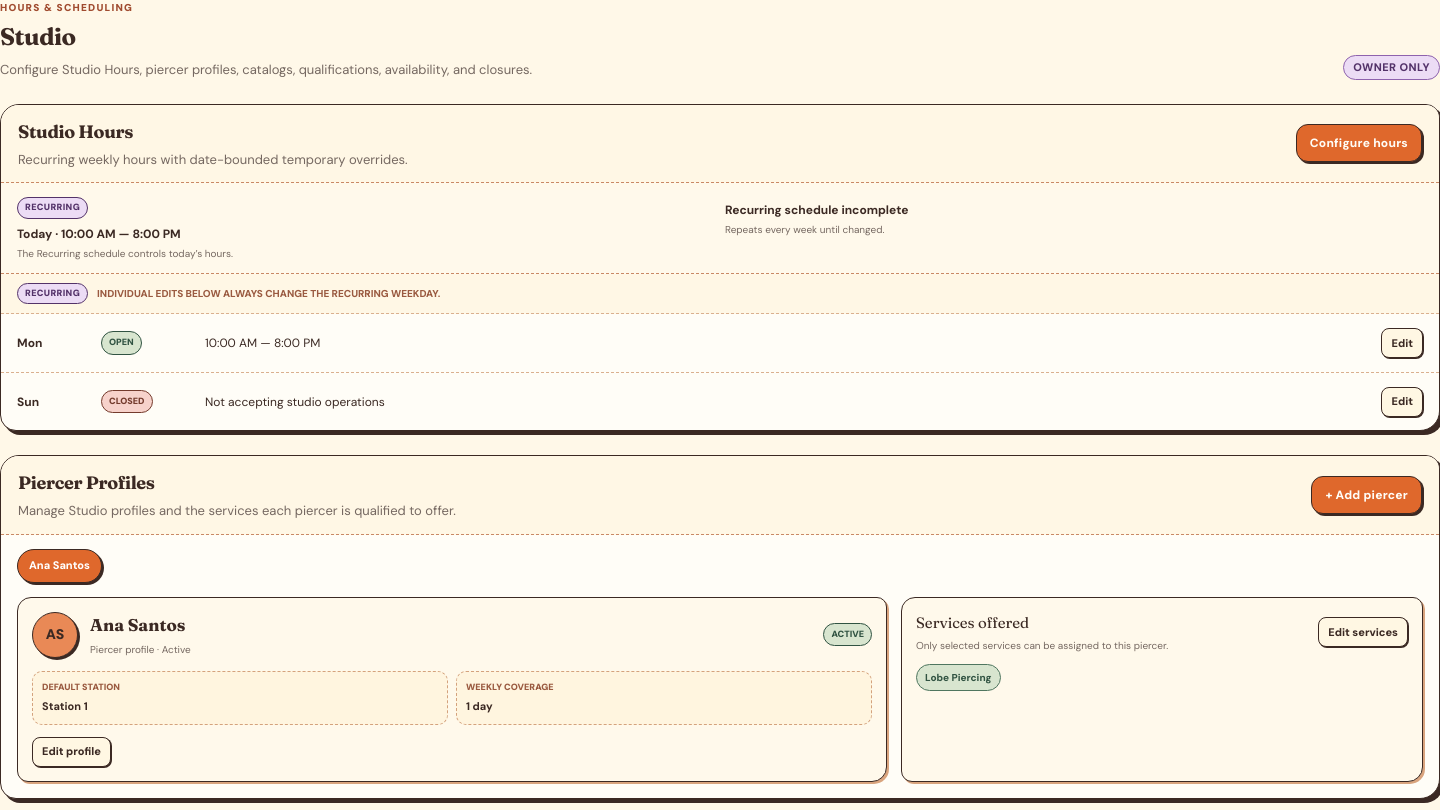
Test case: Configure Studio Hours workflow › opens with clear recurring and temporary choices and toggles date fields
Click the button "Configure hours". click: (1359, 143)
box: top-left (1296, 124), bottom-right (1422, 162)
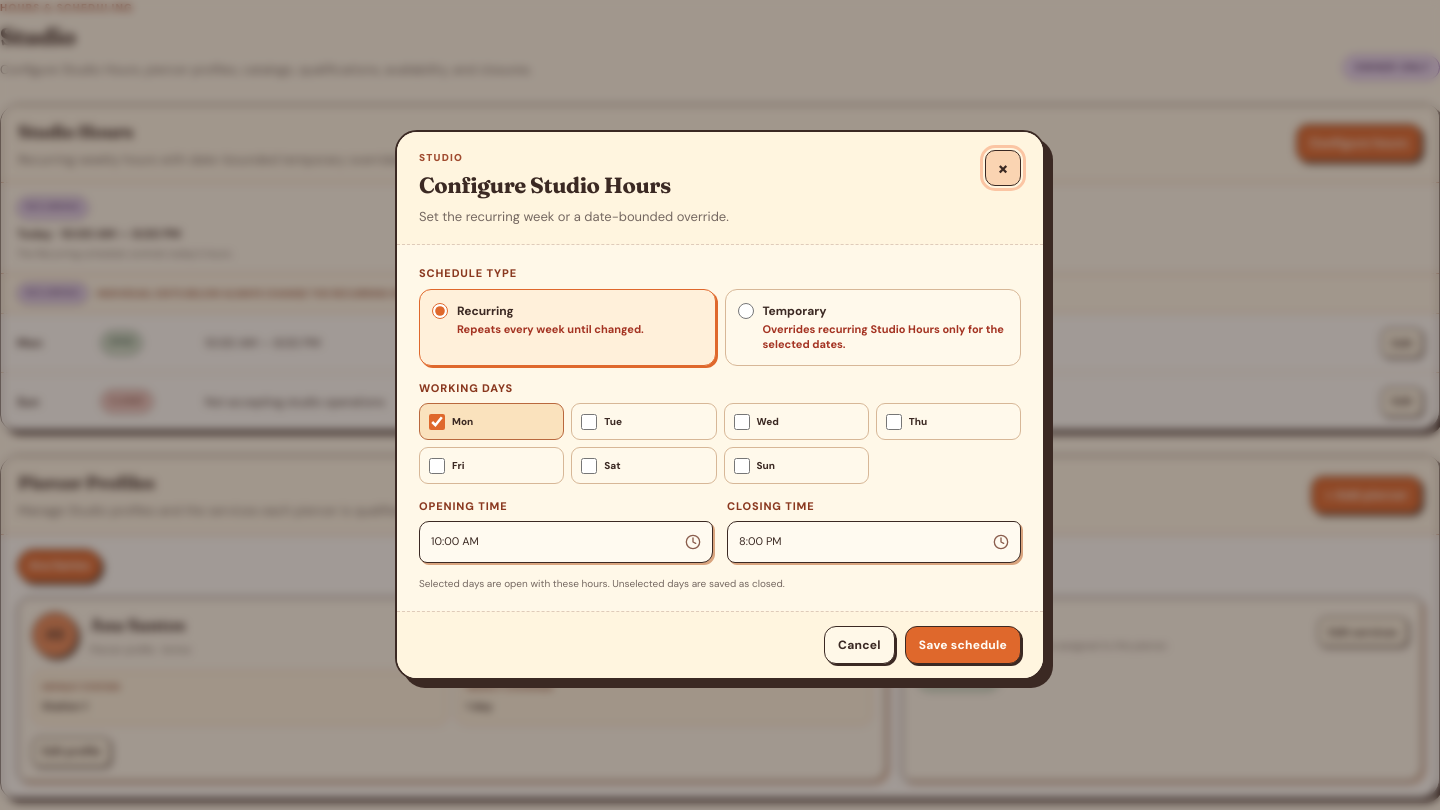
Expected: the button "Start date" is not shown
Now the text "Repeats every week until changed." is shown, box top-left (457, 322), bottom-right (644, 337)
Now the text "Overrides recurring Studio Hours only for the selected dates." is shown, box top-left (762, 322), bottom-right (1008, 353)
Click the radio button labelled "Temporary". click: (746, 311)
box: top-left (738, 303), bottom-right (754, 319)
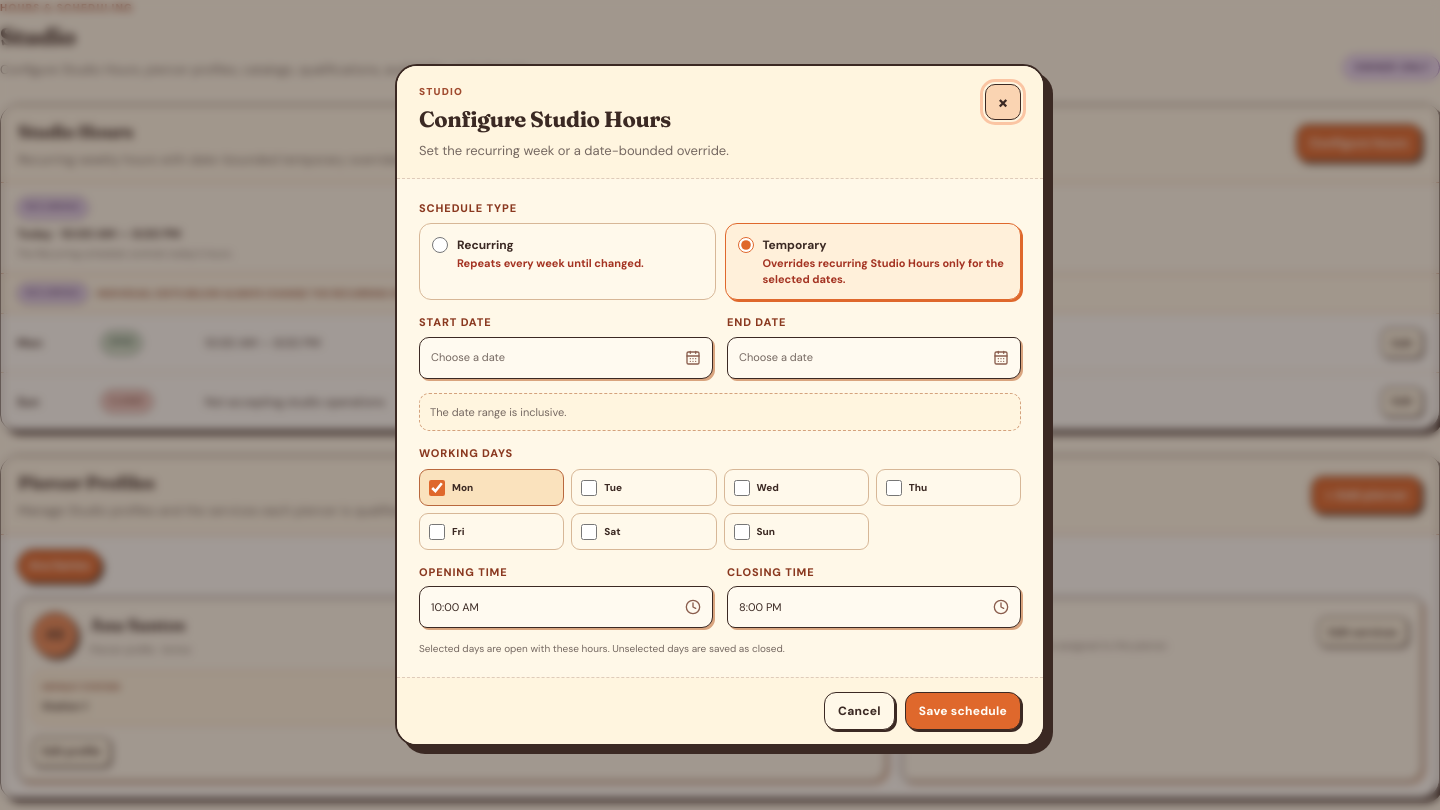
Now the button named "Start date" is shown, box top-left (419, 337), bottom-right (713, 379)
Now the button named "End date" is shown, box top-left (727, 337), bottom-right (1021, 379)
